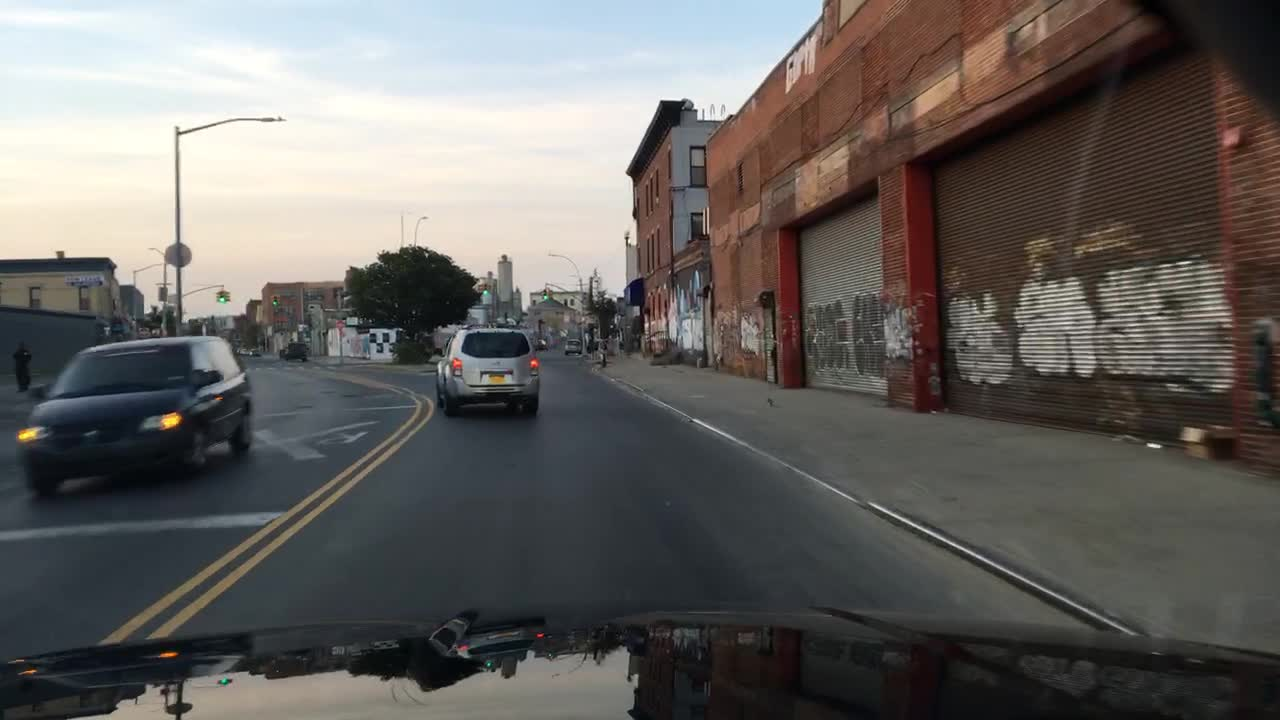car: (17, 336, 255, 499), (433, 327, 542, 420), (284, 339, 309, 363), (562, 337, 582, 355), (533, 336, 550, 353), (248, 345, 263, 358), (234, 347, 251, 356)
person: (10, 336, 32, 394), (114, 332, 125, 343)
traffic light: (541, 286, 552, 304), (271, 293, 278, 309), (217, 290, 226, 302), (225, 291, 232, 306), (481, 281, 488, 296)
traffic sign: (164, 240, 191, 270), (159, 285, 168, 304), (137, 325, 148, 339), (336, 319, 348, 329)
